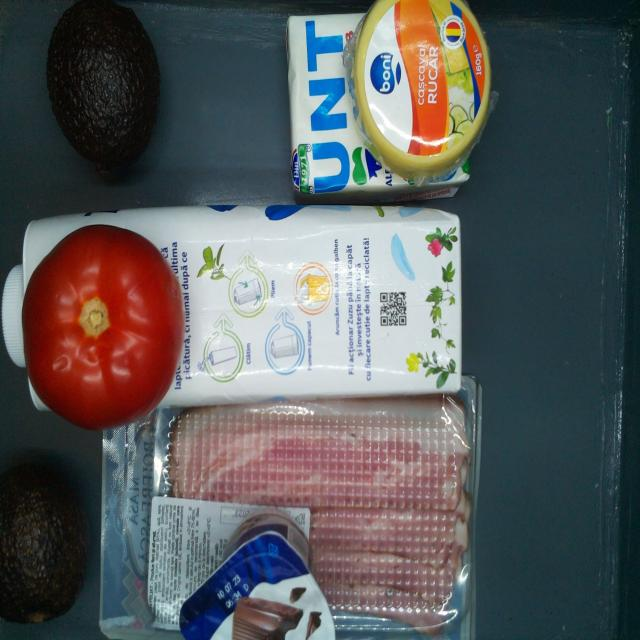avocado: (47, 0, 162, 174), (0, 466, 88, 624)
bacon: (101, 399, 475, 640)
butter: (285, 13, 469, 197)
cheese: (351, 0, 491, 185)
milk: (1, 204, 465, 405)
tomatoes: (23, 226, 184, 430)
yogurt: (180, 515, 334, 640)
